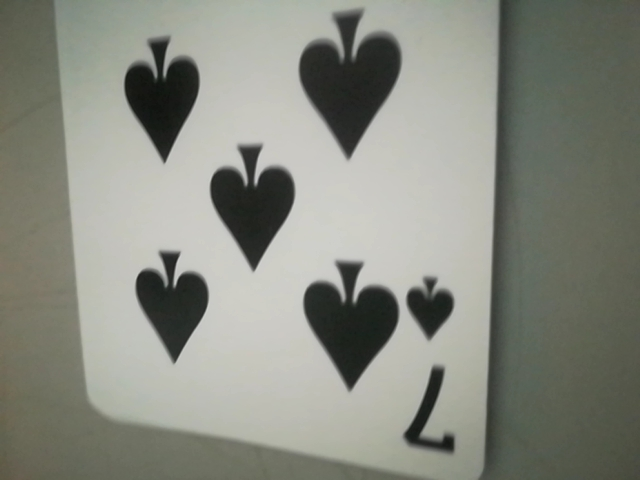ht 7: (404, 276, 467, 457)
